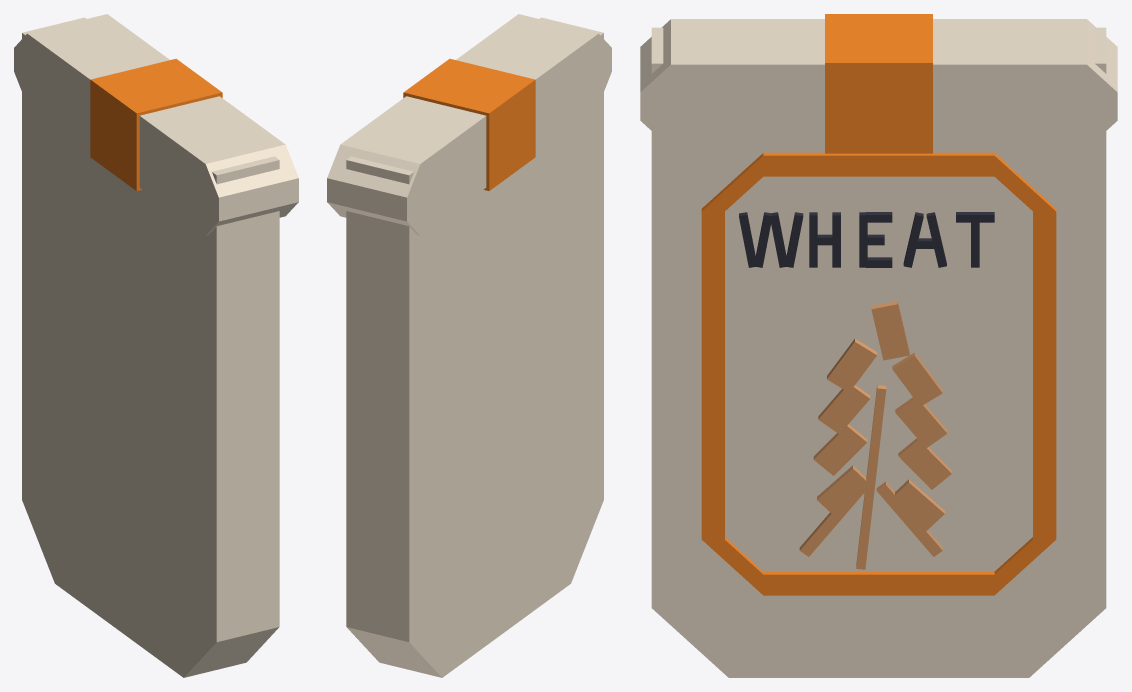
The model's file is asset.glb.
3 renders of one model, left to right at view 1: azimuth 30°, elevation 25°; view 2: azimuth 150°, elevation 25°; view 3: azimuth 270°, elevation 25°, orthographic. The views are drawn at different scales.
Parts seen in each view (by area): view 1: Mesh_PouchBody, Mesh_TopCuff, Mesh_OrangeSealTape; view 2: Mesh_PouchBody, Mesh_TopCuff, Mesh_OrangeSealTape; view 3: Mesh_PouchBody, Mesh_TopCuff, Mesh_OrangeBorder, Mesh_OrangeSealTape, Mesh_WheatStalk, Mesh_ApexGrain, Mesh_Grain_4L, Mesh_Grain_4R, Mesh_Grain_2L, Mesh_Grain_1R, Mesh_Grain_2R, Mesh_Grain_3R (+4 smaller).
Part boxes in pixels (bbox=[...]): Mesh_PouchBody: bbox=[22, 17, 279, 677]; Mesh_TopCuff: bbox=[14, 14, 298, 235]; Mesh_OrangeSealTape: bbox=[90, 58, 222, 190]; Mesh_PouchBody: bbox=[346, 17, 603, 677]; Mesh_TopCuff: bbox=[327, 14, 611, 235]; Mesh_OrangeSealTape: bbox=[403, 58, 535, 190]; Mesh_PouchBody: bbox=[651, 27, 1106, 677]; Mesh_TopCuff: bbox=[640, 19, 1117, 148]; Mesh_OrangeBorder: bbox=[701, 152, 1056, 595]; Mesh_OrangeSealTape: bbox=[825, 14, 932, 153]; Mesh_WheatStalk: bbox=[856, 385, 886, 569]; Mesh_ApexGrain: bbox=[871, 301, 909, 360]; Mesh_Grain_4L: bbox=[827, 339, 877, 392]; Mesh_Grain_4R: bbox=[892, 352, 942, 406]; Mesh_Grain_2L: bbox=[813, 424, 867, 475]; Mesh_Grain_1R: bbox=[890, 479, 944, 531]; Mesh_Grain_2R: bbox=[898, 438, 951, 489]; Mesh_Grain_3R: bbox=[895, 397, 947, 448].
Bounding box in the file's own units: 0.03 × 0.179 × 0.124.
